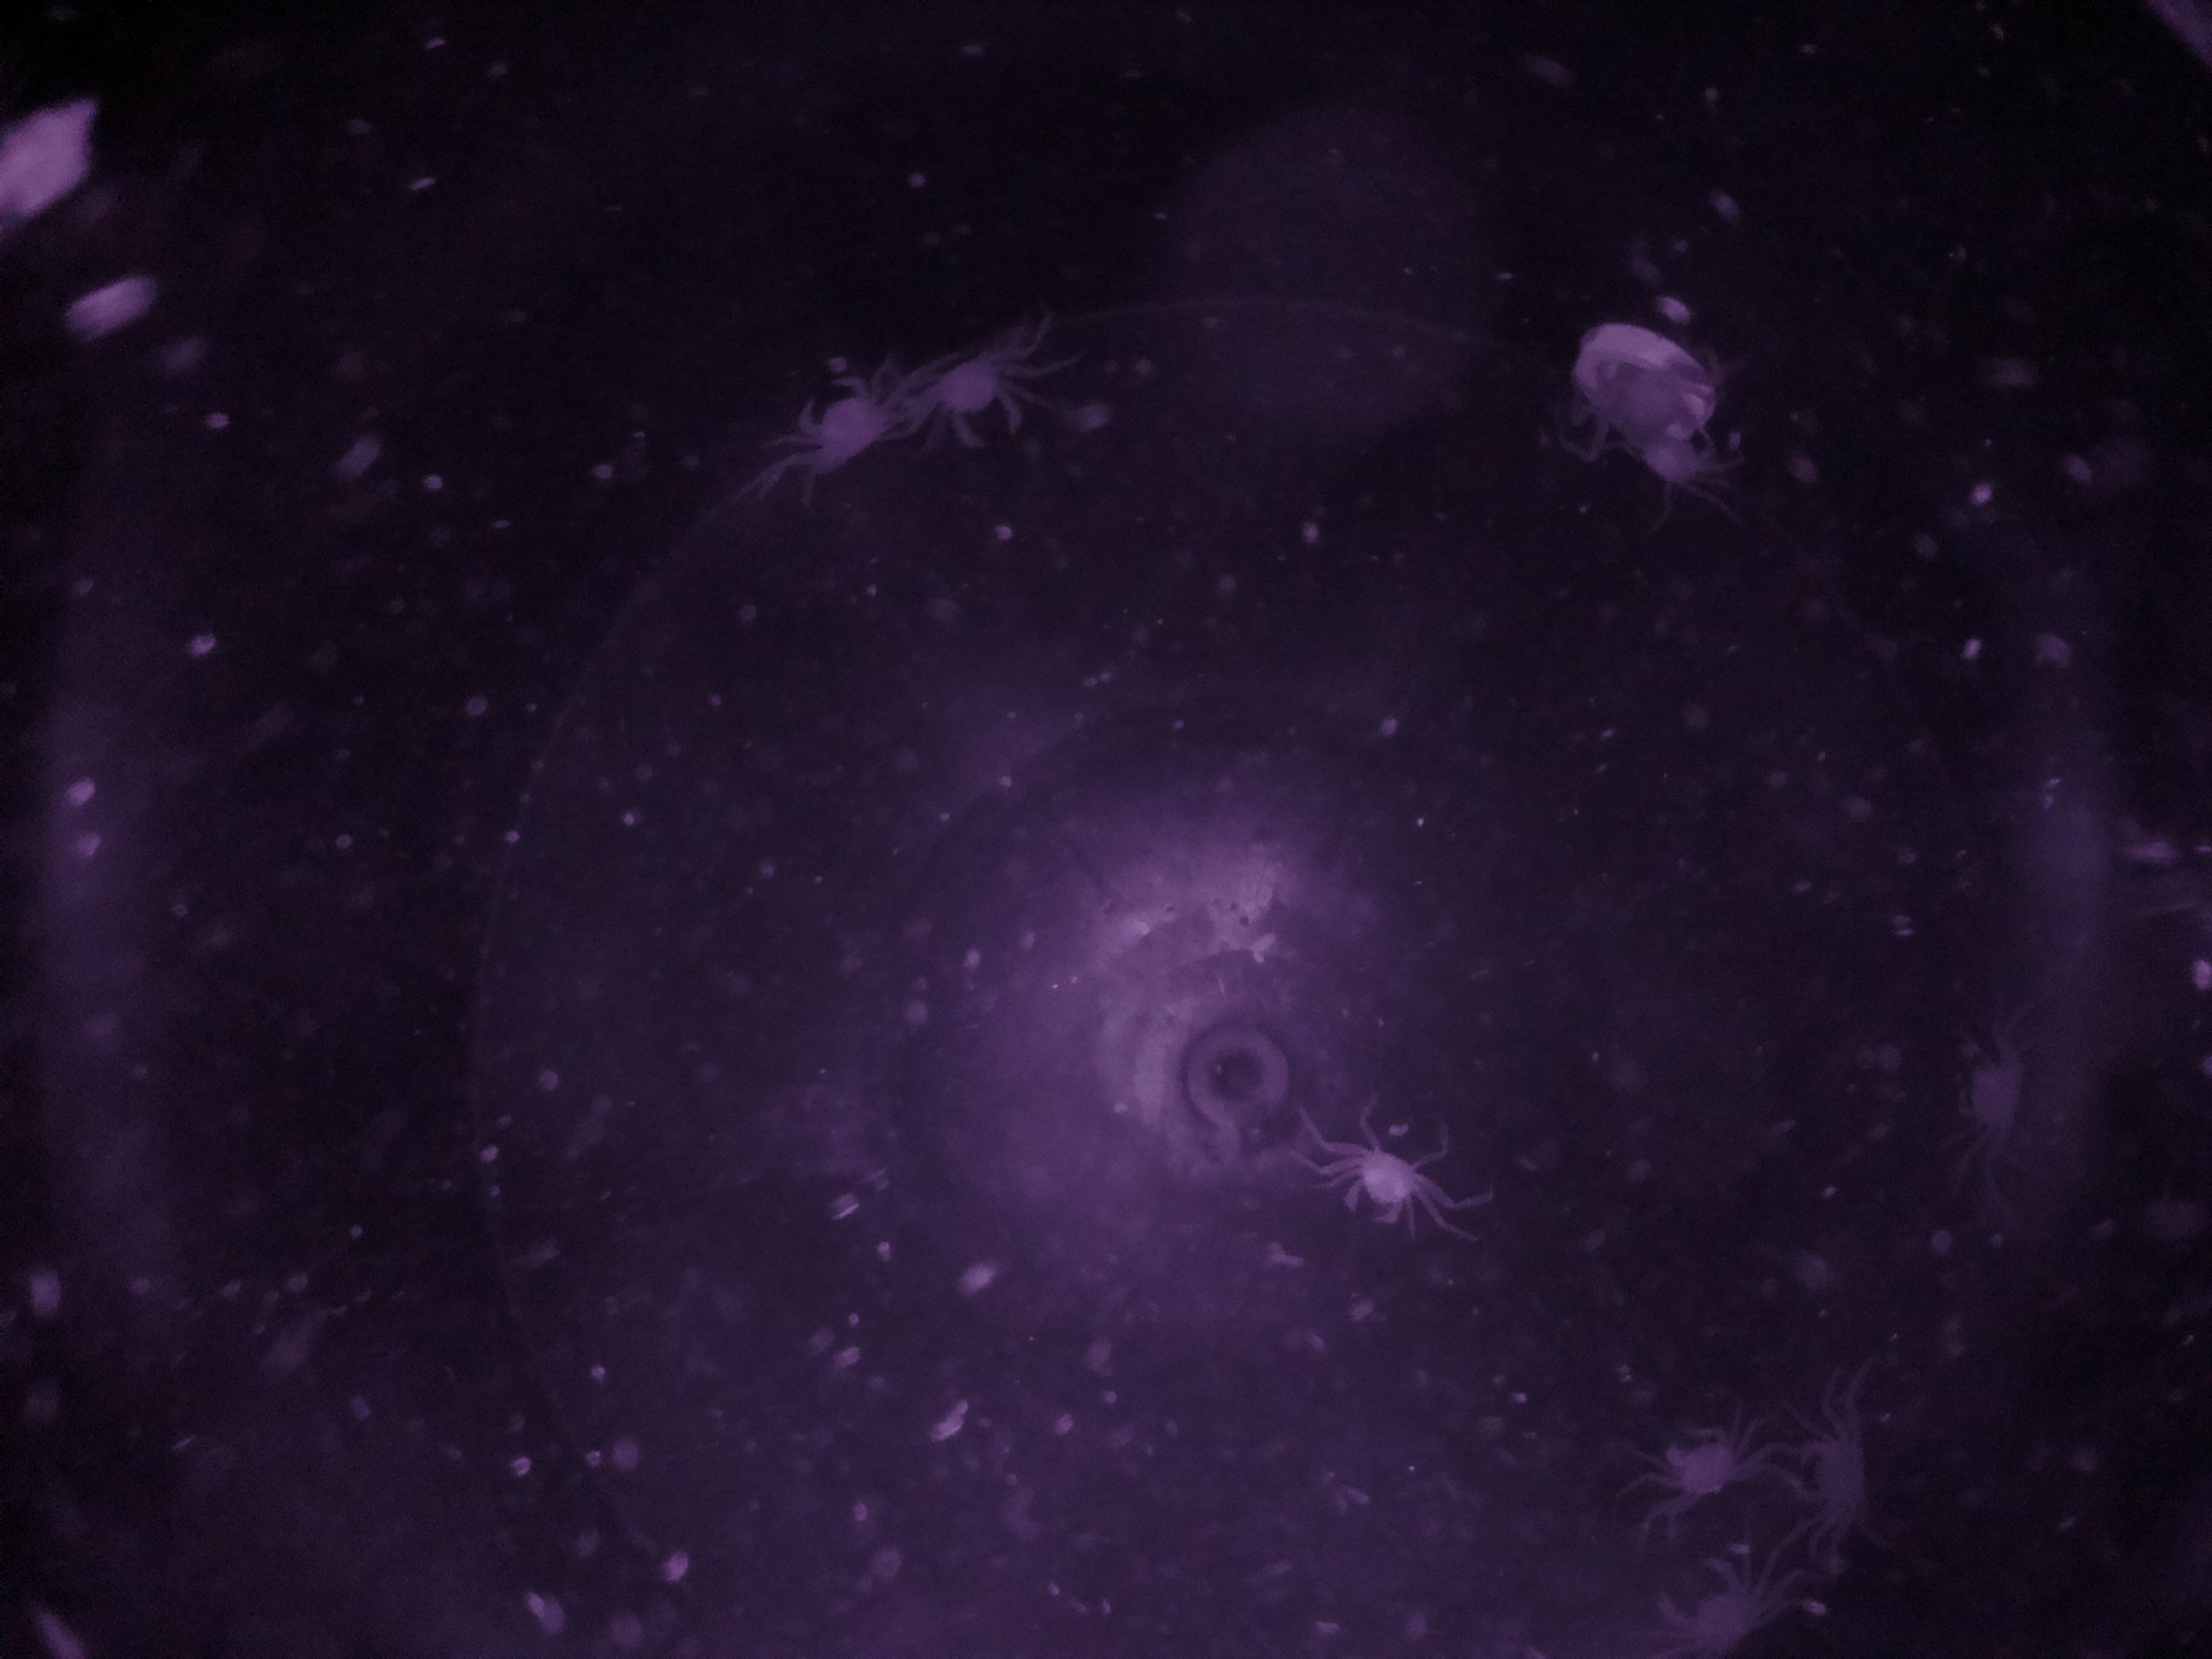Crab: (1648, 1544, 1796, 1659), (1775, 1399, 1886, 1539), (780, 349, 895, 471), (1946, 1019, 2050, 1150), (1338, 1121, 1439, 1244), (935, 335, 1029, 458), (1658, 1412, 1766, 1518)
